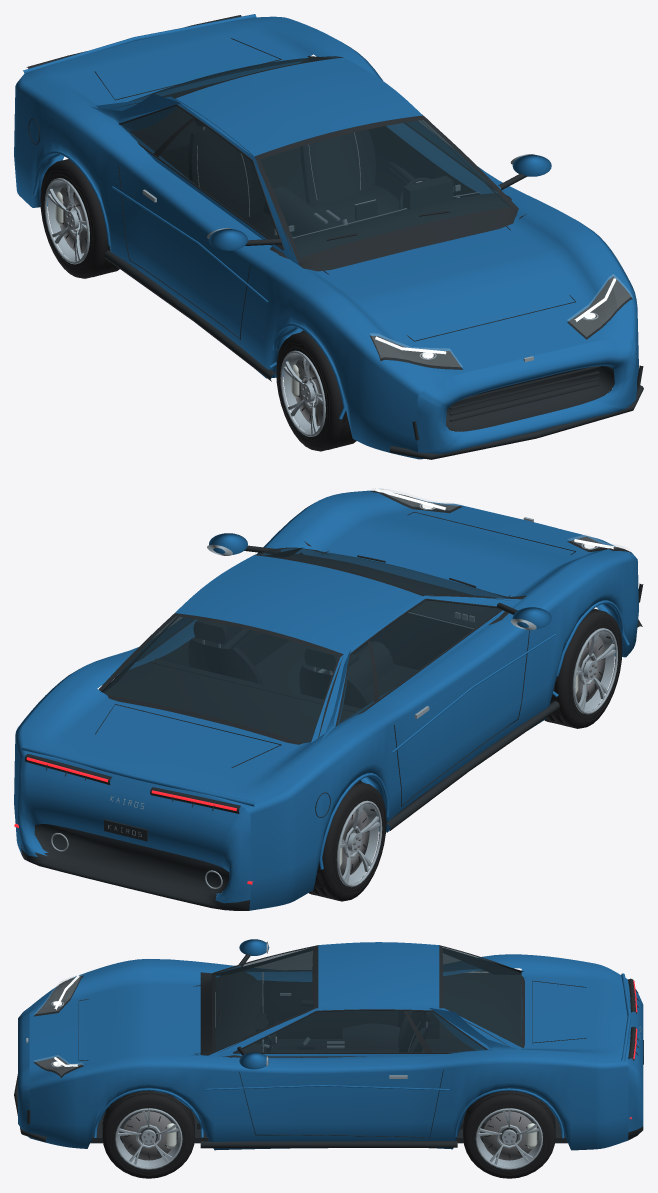
The model's file is velara-lod0.glb.
3 views of the same model, one above another, from view 1: azimuth 30°, elevation 25°; view 2: azimuth 150°, elevation 25°; view 3: azimuth 270°, elevation 25° (orthographic). The views are drawn at different scales.
Parts seen in each view (by area): view 1: sculpted-coachwork_merged, carbon-rear-valance_merged, panoramic-windscreen_merged, profiled-tire_merged (×2), rim-barrel_merged (×2), headlamp-clear-lens_merged, wheel-valve-cap_merged (×2), door-release_merged; view 2: sculpted-coachwork_merged, carbon-rear-valance_merged, panoramic-windscreen_merged, profiled-tire_merged (×2), rim-barrel_merged (×2), wheel-valve-cap_merged (×2), door-release_merged, headlamp-clear-lens_merged, rear-light-guide_merged; view 3: sculpted-coachwork_merged, carbon-rear-valance_merged, panoramic-windscreen_merged, profiled-tire_merged (×2), rim-barrel_merged (×2), wheel-valve-cap_merged (×2), headlamp-clear-lens_merged, door-release_merged.
Part boxes in pixels (<box>): sculpted-coachwork_merged: <box>14,14,638,459</box>; carbon-rear-valance_merged: <box>26,15,643,459</box>; panoramic-windscreen_merged: <box>120,56,510,257</box>; profiled-tire_merged (×2): <box>40,159,356,451</box>; rim-barrel_merged (×2): <box>44,178,325,436</box>; headlamp-clear-lens_merged: <box>370,274,631,366</box>; wheel-valve-cap_merged (×2): <box>60,185,323,426</box>; door-release_merged: <box>142,127,598,362</box>; sculpted-coachwork_merged: <box>14,490,638,910</box>; carbon-rear-valance_merged: <box>21,490,643,910</box>; panoramic-windscreen_merged: <box>102,548,506,742</box>; profiled-tire_merged (×2): <box>309,608,622,901</box>; rim-barrel_merged (×2): <box>336,628,617,887</box>; wheel-valve-cap_merged (×2): <box>340,636,612,875</box>; door-release_merged: <box>51,502,598,888</box>; headlamp-clear-lens_merged: <box>372,488,630,549</box>; rear-light-guide_merged: <box>14,757,253,884</box>; sculpted-coachwork_merged: <box>18,939,643,1150</box>; carbon-rear-valance_merged: <box>14,945,643,1148</box>; panoramic-windscreen_merged: <box>215,947,522,1052</box>; profiled-tire_merged (×2): <box>102,1090,555,1178</box>; rim-barrel_merged (×2): <box>115,1108,542,1169</box>; wheel-valve-cap_merged (×2): <box>122,1111,531,1160</box>; headlamp-clear-lens_merged: <box>34,974,82,1075</box>; door-release_merged: <box>26,941,641,1078</box>.
Size of what is drawn, in the model's own units: 2.19 by 1.27 by 4.63.
